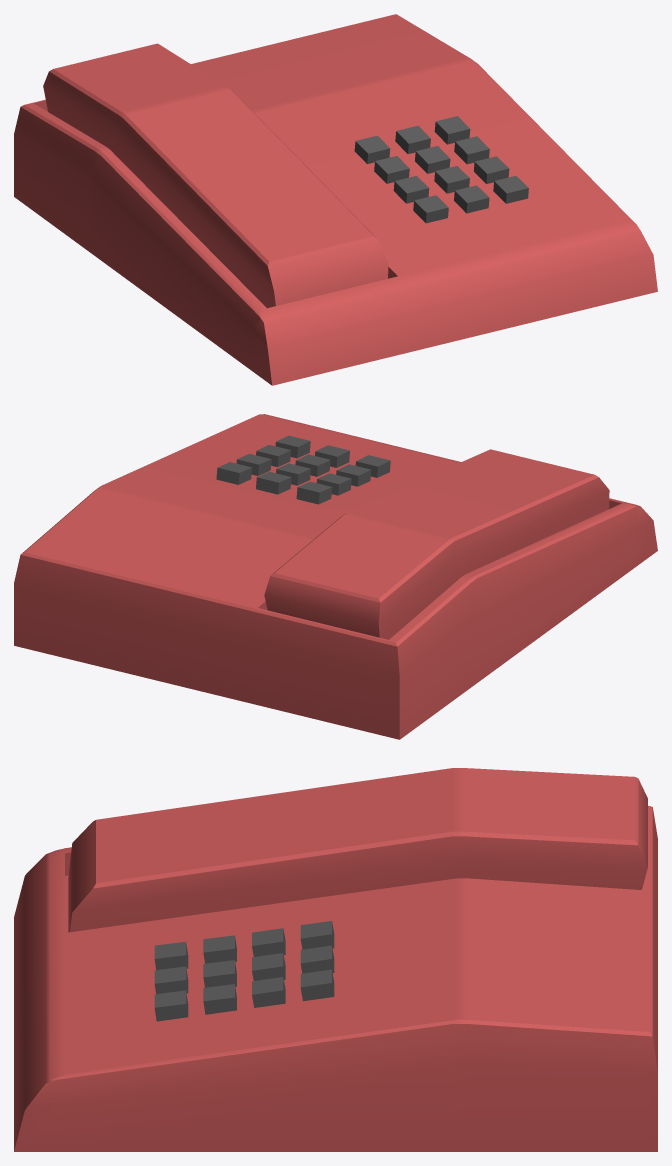
Rendered from Telefon.fbx.
3 renders of one model, top to bottom at view 1: azimuth 30°, elevation 25°; view 2: azimuth 150°, elevation 25°; view 3: azimuth 270°, elevation 25°, orthographic. The views are drawn at different scales.
Parts seen in each view (by area): view 1: Phone; view 2: Phone; view 3: Phone.
Boxes of the visible parts, <box> form: Phone: <box>14,14,657,385</box>; Phone: <box>14,414,657,739</box>; Phone: <box>14,768,657,1151</box>.
Size of the model in its own units: 17.42 by 5.8 by 20.2.
